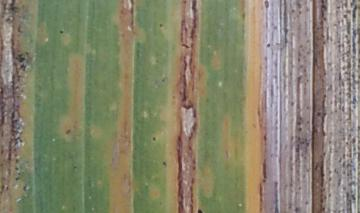tarspot: (16, 53, 26, 63), (262, 1, 271, 10), (19, 63, 27, 72), (150, 133, 157, 143), (57, 27, 65, 35), (64, 127, 72, 135), (160, 159, 168, 167), (157, 21, 164, 29), (196, 206, 203, 213), (265, 41, 271, 48)
